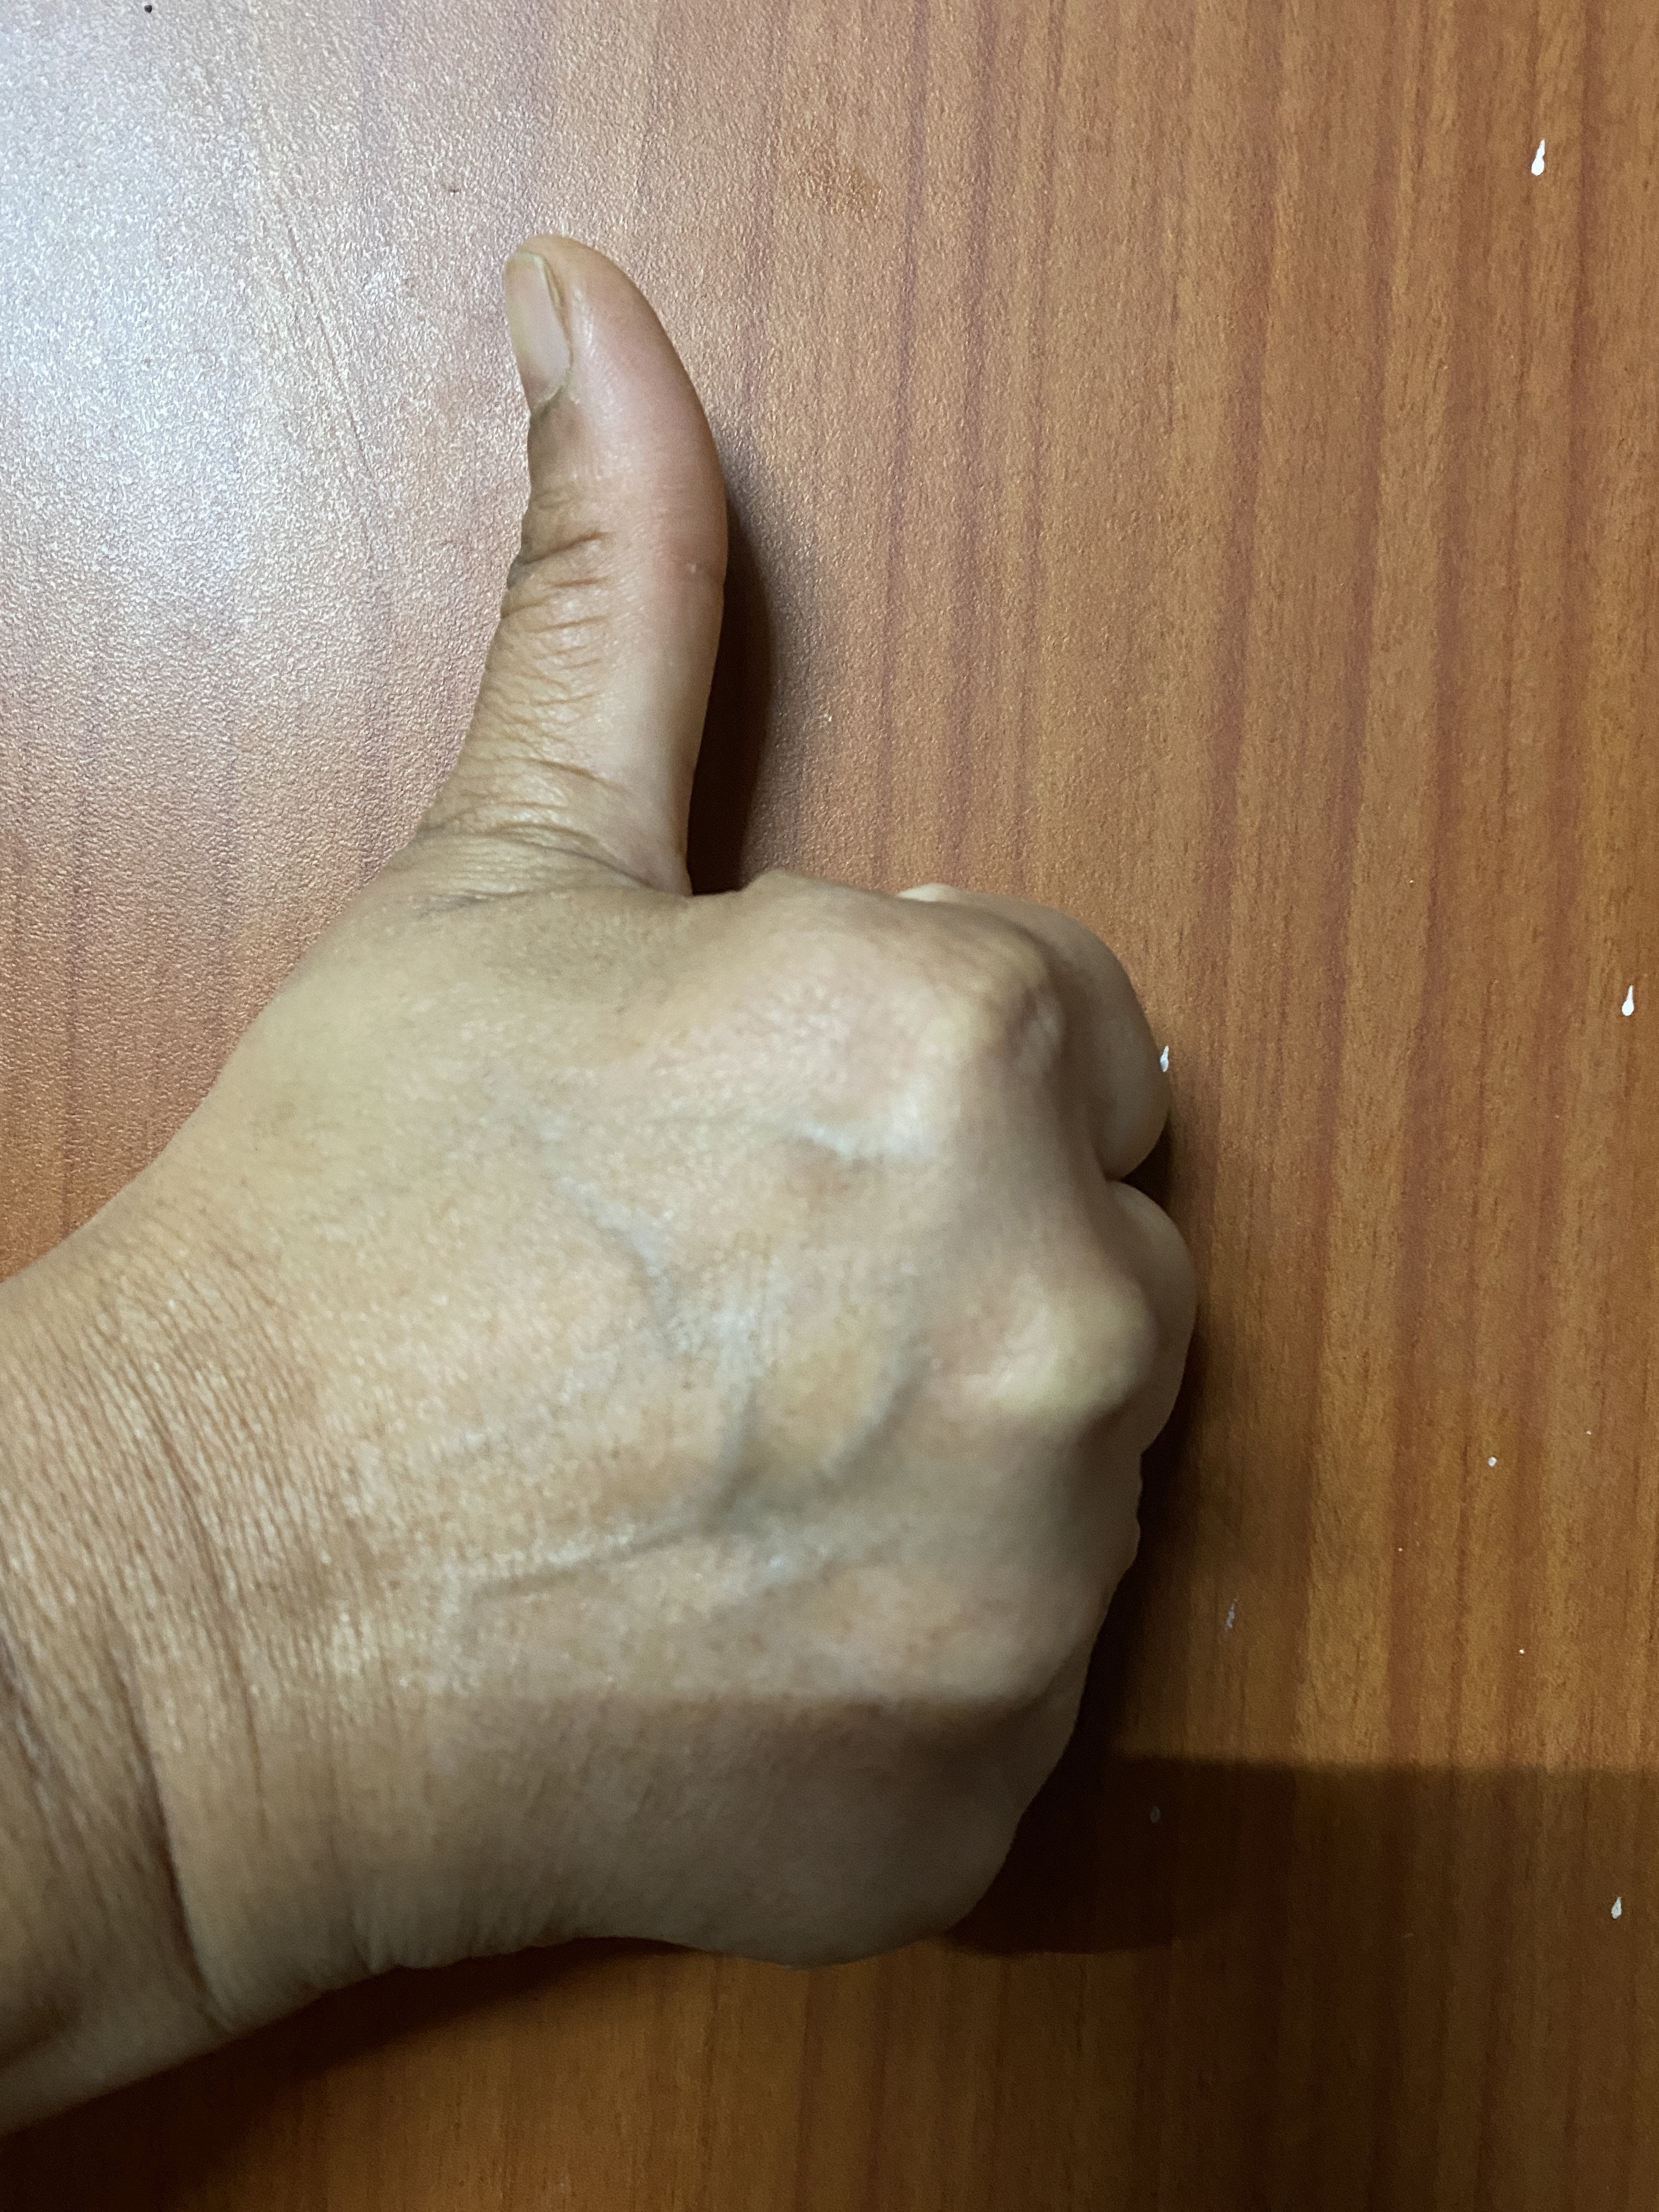up: (45, 155, 1448, 2085)
